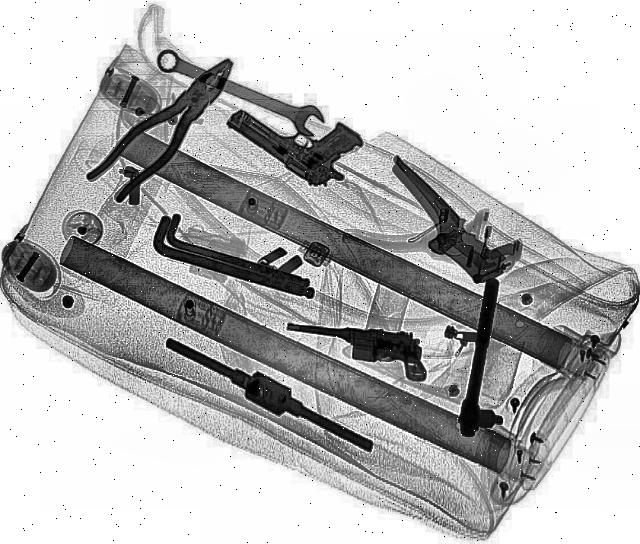Gun: (220, 79, 376, 194), (278, 321, 432, 383)
Pliers: (78, 50, 256, 208)
Wrench: (146, 42, 332, 144)
